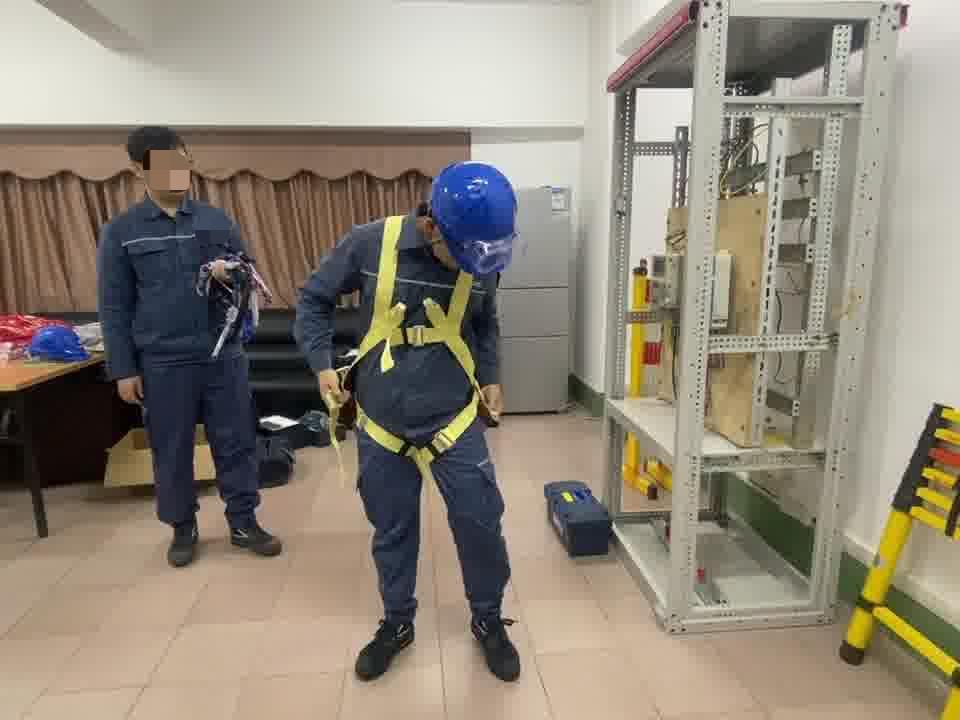halt: (430, 161, 522, 276)
unhalt: (129, 129, 198, 206)
